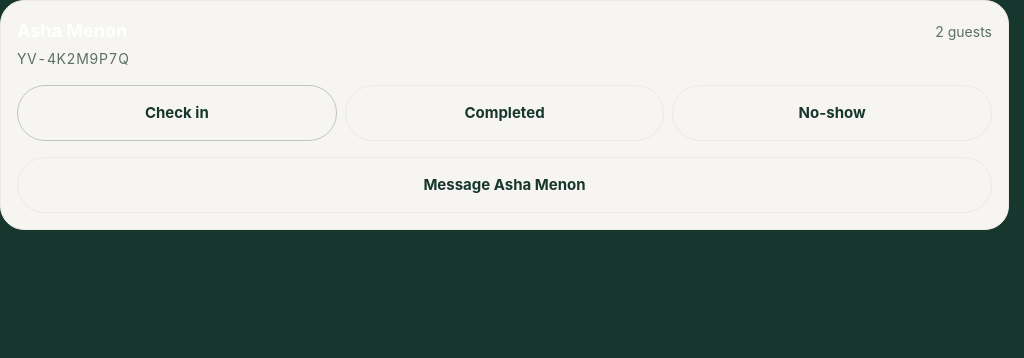
Test: PartyRow — terminal outcomes › can be disarmed
Click the button "Completed". click: (505, 113)
box: [345, 85, 664, 141]
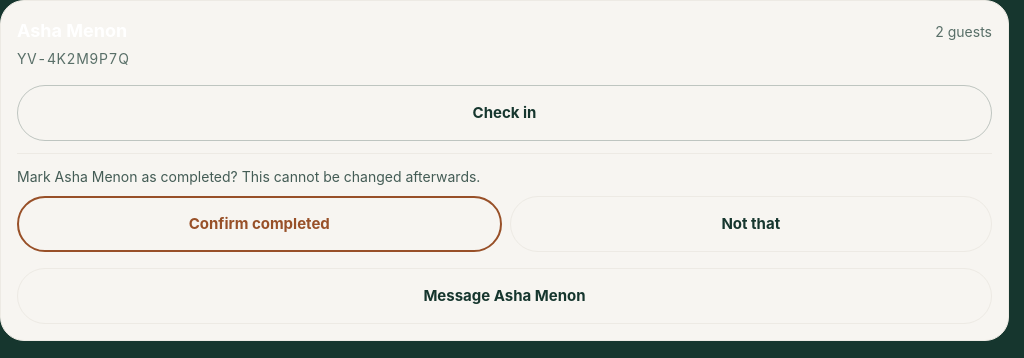
Click the button "Not that". click: (751, 224)
box: [510, 196, 992, 252]
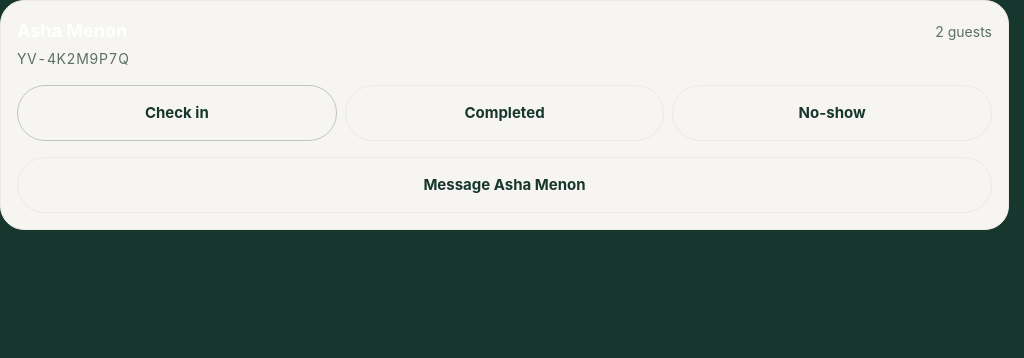
Now the button "No-show" is shown, box [672, 85, 992, 141]
Now the button "Confirm" is gone
